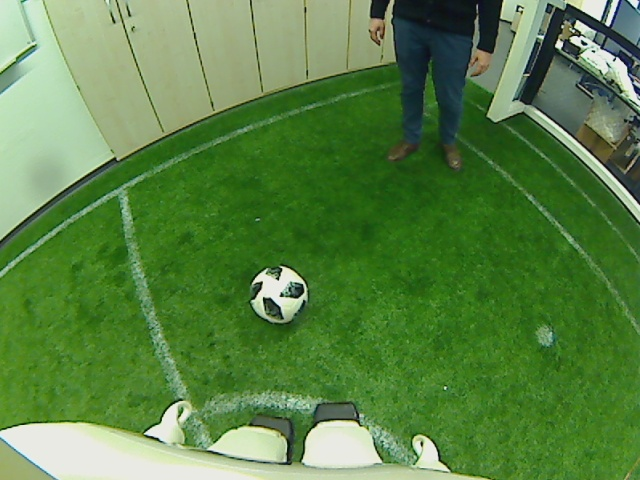ball: (247, 260, 307, 324)
